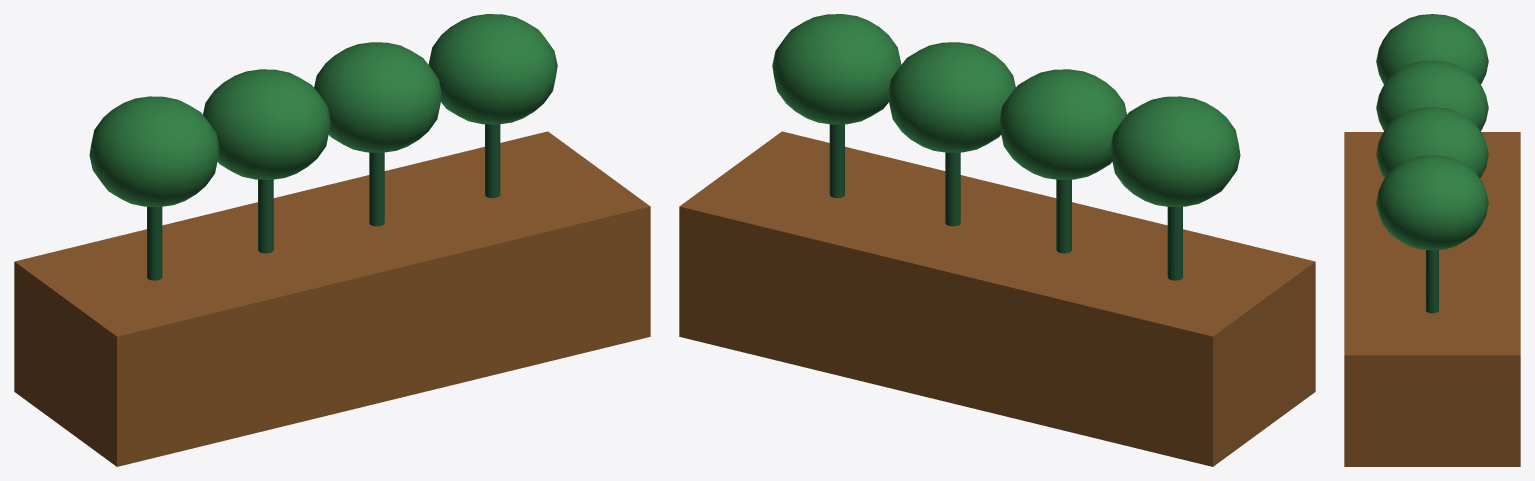
3 renders of one model, left to right at view 1: azimuth 30°, elevation 25°; view 2: azimuth 150°, elevation 25°; view 3: azimuth 270°, elevation 25°, orthographic. The views are drawn at different scales.
Parts seen in each view (by area): view 1: planter-box; view 2: planter-box; view 3: planter-box.
Boxes of the visible parts, x1=… form: planter-box: x1=14, y1=14, x2=650, y2=466; planter-box: x1=679, y1=14, x2=1315, y2=466; planter-box: x1=1344, y1=14, x2=1520, y2=466.
Bounding box in the file's own units: 1.2 × 0.654 × 0.4.
